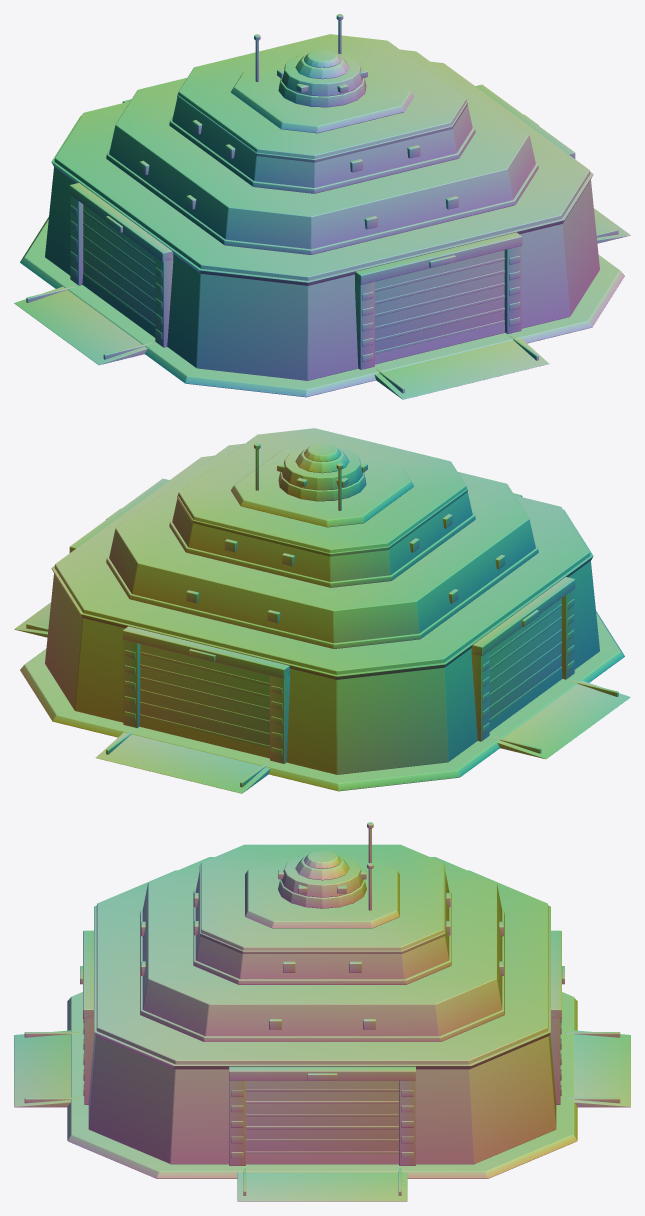
The model's file is hq_t1_rig.glb.
3 renders of one model, top to bottom at view 1: azimuth 30°, elevation 25°; view 2: azimuth 150°, elevation 25°; view 3: azimuth 270°, elevation 25°, orthographic.
Parts seen in each view (by area): view 1: body, door_0, spin_eye, door_2; view 2: body, door_3, spin_eye, door_2; view 3: body, door_1, spin_eye.
Part boxes in pixels (left/top/right/bottom): body: left=14, top=14, right=630, bottom=399; door_0: left=375, top=258, right=504, bottom=354; spin_eye: left=277, top=53, right=367, bottom=96; door_2: left=83, top=210, right=155, bottom=327; body: left=14, top=428, right=630, bottom=793; door_3: left=140, top=652, right=269, bottom=748; spin_eye: left=277, top=447, right=367, bottom=490; door_2: left=489, top=604, right=561, bottom=721; body: left=14, top=822, right=630, bottom=1201; door_1: left=246, top=1089, right=398, bottom=1153; spin_eye: left=278, top=854, right=366, bottom=897.
Bounding box in the file's own units: 58 × 23.6 × 58.
